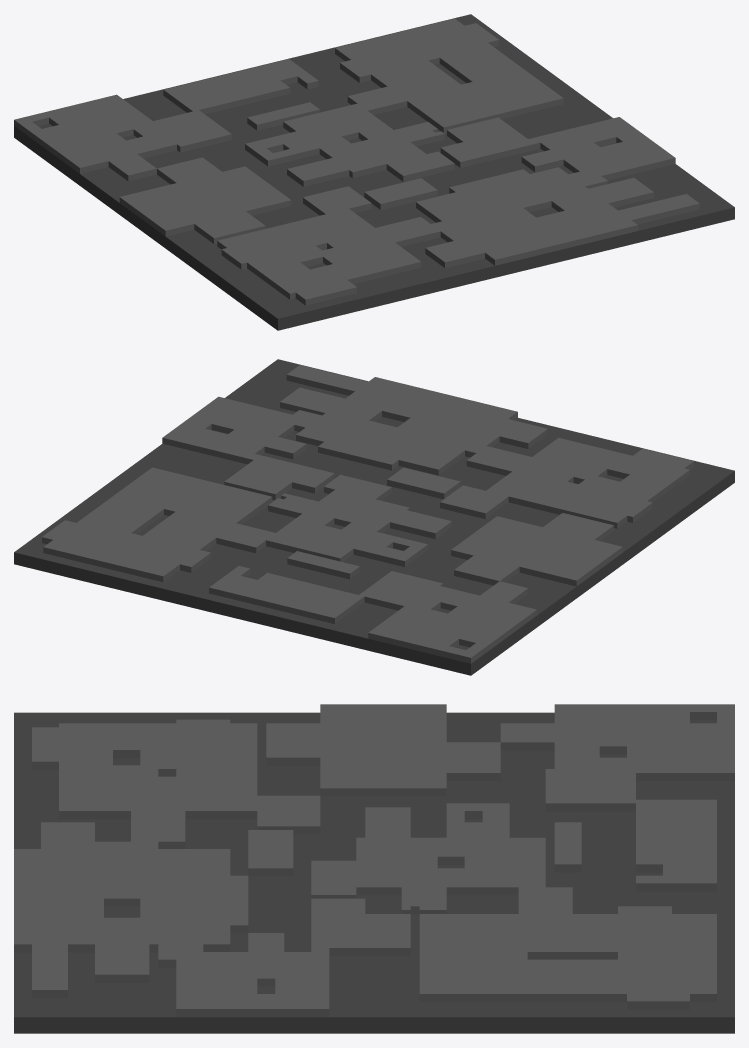
The model's file is Tile.obj.
3 renders of one model, top to bottom at view 1: azimuth 30°, elevation 25°; view 2: azimuth 150°, elevation 25°; view 3: azimuth 270°, elevation 25°, orthographic. The views are drawn at different scales.
Parts seen in each view (by area): view 1: Tile; view 2: Tile; view 3: Tile.
Boxes of the visible parts, x1,y1,x2,y2 form: Tile: [14, 14, 734, 330]; Tile: [14, 359, 734, 675]; Tile: [14, 704, 734, 1033].
Size of the model in its own units: 80 by 3 by 80.
Materials: 1 (1 with a texture image).
